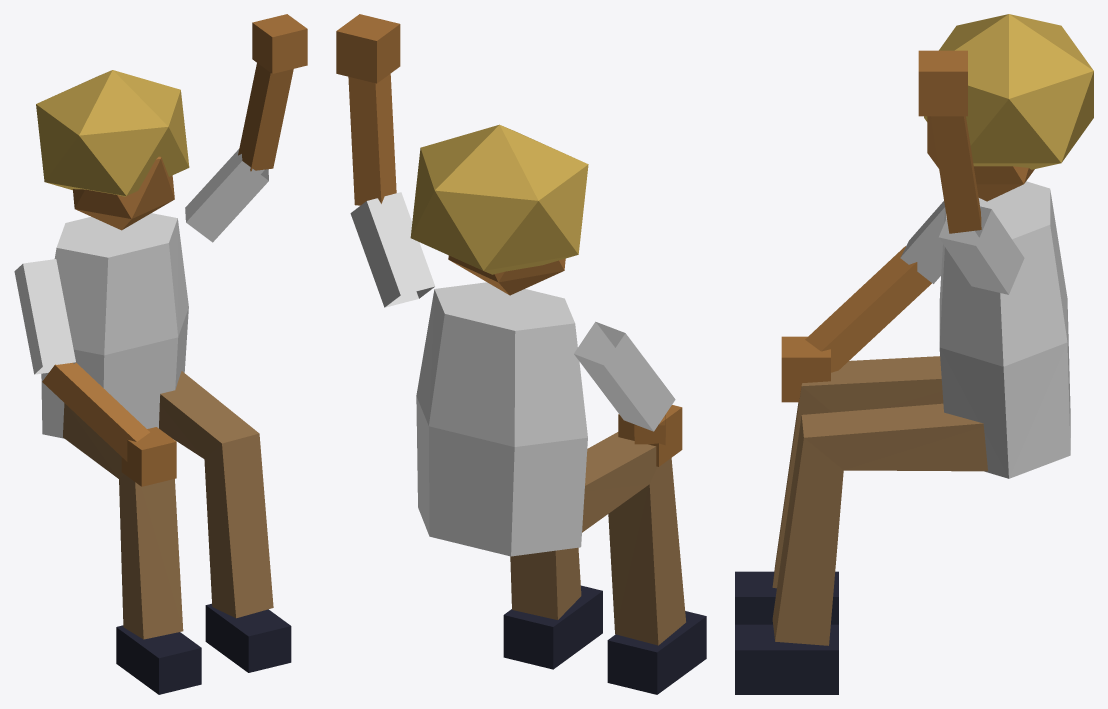
The model's file is fan-3.glb.
3 views of the same model, side by side, from view 1: azimuth 30°, elevation 25°; view 2: azimuth 150°, elevation 25°; view 3: azimuth 270°, elevation 25° (orthographic). The views are drawn at different scales.
Parts seen in each view (by area): view 1: fan-3; view 2: fan-3; view 3: fan-3.
Part boxes in pixels (left/top/right/bottom): fan-3: left=14, top=14, right=307, bottom=694; fan-3: left=336, top=14, right=706, bottom=694; fan-3: left=735, top=14, right=1093, bottom=694.
Size of the model in its own units: 0.6895 by 1.37 by 0.655.
